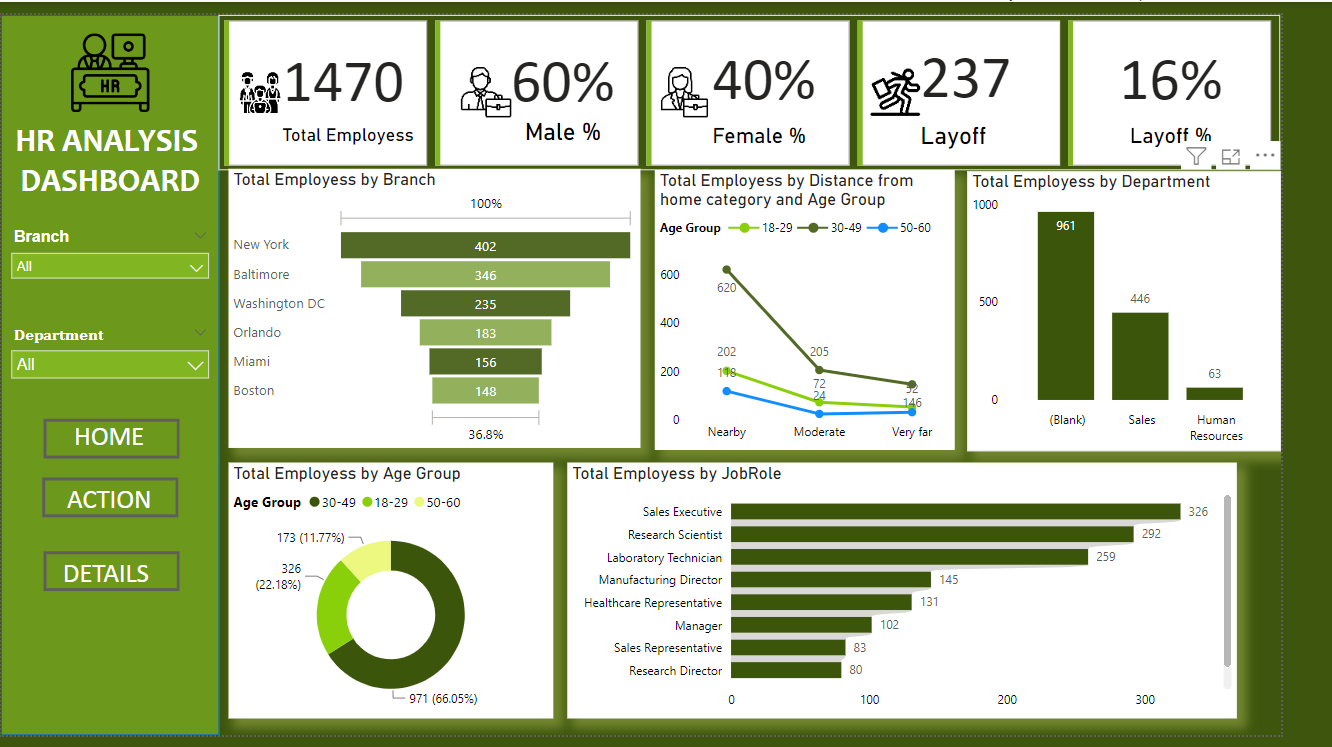

This screenshot's page, from the dashboard's own definition file:
{"tool":"powerbi","page":{"name":"Home ","canvas":[1280,720],"ordinal":0},"visuals":[{"type":"shape","box":[0,0,218.4,720.2],"z":0},{"type":"textbox","box":[0,101.5,218.2,105.7],"z":1000},{"type":"slicer","fields":{"Values":["DimEmployee.Branch"]},"box":[0,207.2,218.2,87.8],"z":2000},{"type":"slicer","fields":{"Values":["DimDepartment.Department"]},"box":[0,304.6,218.2,68.6],"z":3000},{"type":"image","box":[61.7,13.7,96.1,87.8],"z":4000},{"type":"cardVisual","fields":{"Data":["Key Measures.Total Employess","Key Measures.Male %","Key Measures.Female %","Key Measures.Layoff","Key Measures.Layoff %"]},"box":[218.1,0,1061.9,155.4],"z":5000},{"type":"donutChart","fields":{"Y":["Key Measures.Total Employess"],"Category":["Fact_HR Data.Age Group"]},"box":[227.9,447.3,324.9,256],"z":6000},{"type":"funnel","fields":{"Y":["Key Measures.Total Employess"],"Category":["DimEmployee.Branch"]},"box":[228.1,153.9,411.9,279.4],"z":7000},{"type":"lineChart","fields":{"Y":["Key Measures.Total Employess"],"Category":["Fact_HR Data.Distance from home category"],"Series":["Fact_HR Data.Age Group"]},"box":[653.4,154.7,299.6,279.9],"z":8000},{"type":"barChart","fields":{"Y":["Key Measures.Total Employess"],"Category":["Fact_HR Data.JobRole"]},"box":[566.9,447.3,669.5,256],"z":9000},{"type":"columnChart","fields":{"Y":["Key Measures.Total Employess"],"Category":["DimDepartment.Department"]},"box":[966.3,156.1,313.7,279.9],"z":10000},{"type":"textbox","box":[37.4,400.5,141.2,47.1],"z":11000},{"type":"textbox","box":[31.4,535.7,147.2,49.5],"z":12000},{"type":"textbox","box":[37.4,462.1,141.2,47.1],"z":13000},{"type":"actionButton","box":[42.2,404.2,136.3,39.8],"z":14000},{"type":"actionButton","box":[41,462.1,136.3,39.8],"z":15000},{"type":"actionButton","box":[42.2,535.7,136.3,39.8],"z":16000}]}

Visuals, with their boxes in screenshot pixels (x1, y1, x2, y2), scaled from the page's 1280x720 canvas onto the 1332x747 screenshot:
shape: left=0, top=0, right=227, bottom=746
textbox: left=0, top=105, right=227, bottom=215
slicer - DimEmployee.Branch: left=0, top=215, right=227, bottom=306
slicer - DimDepartment.Department: left=0, top=316, right=227, bottom=387
image: left=64, top=14, right=164, bottom=105
cardVisual - Key Measures.Total Employess x Key Measures.Male %: left=227, top=0, right=1331, bottom=161
donutChart - Key Measures.Total Employess x Fact_HR Data.Age Group: left=237, top=464, right=575, bottom=730
funnel - Key Measures.Total Employess x DimEmployee.Branch: left=237, top=160, right=666, bottom=450
lineChart - Key Measures.Total Employess x Fact_HR Data.Distance from home category: left=680, top=161, right=992, bottom=451
barChart - Key Measures.Total Employess x Fact_HR Data.JobRole: left=590, top=464, right=1287, bottom=730
columnChart - Key Measures.Total Employess x DimDepartment.Department: left=1006, top=162, right=1331, bottom=452
textbox: left=39, top=416, right=186, bottom=464
textbox: left=33, top=556, right=186, bottom=607
textbox: left=39, top=479, right=186, bottom=528
actionButton: left=44, top=419, right=186, bottom=461
actionButton: left=43, top=479, right=185, bottom=521
actionButton: left=44, top=556, right=186, bottom=597
